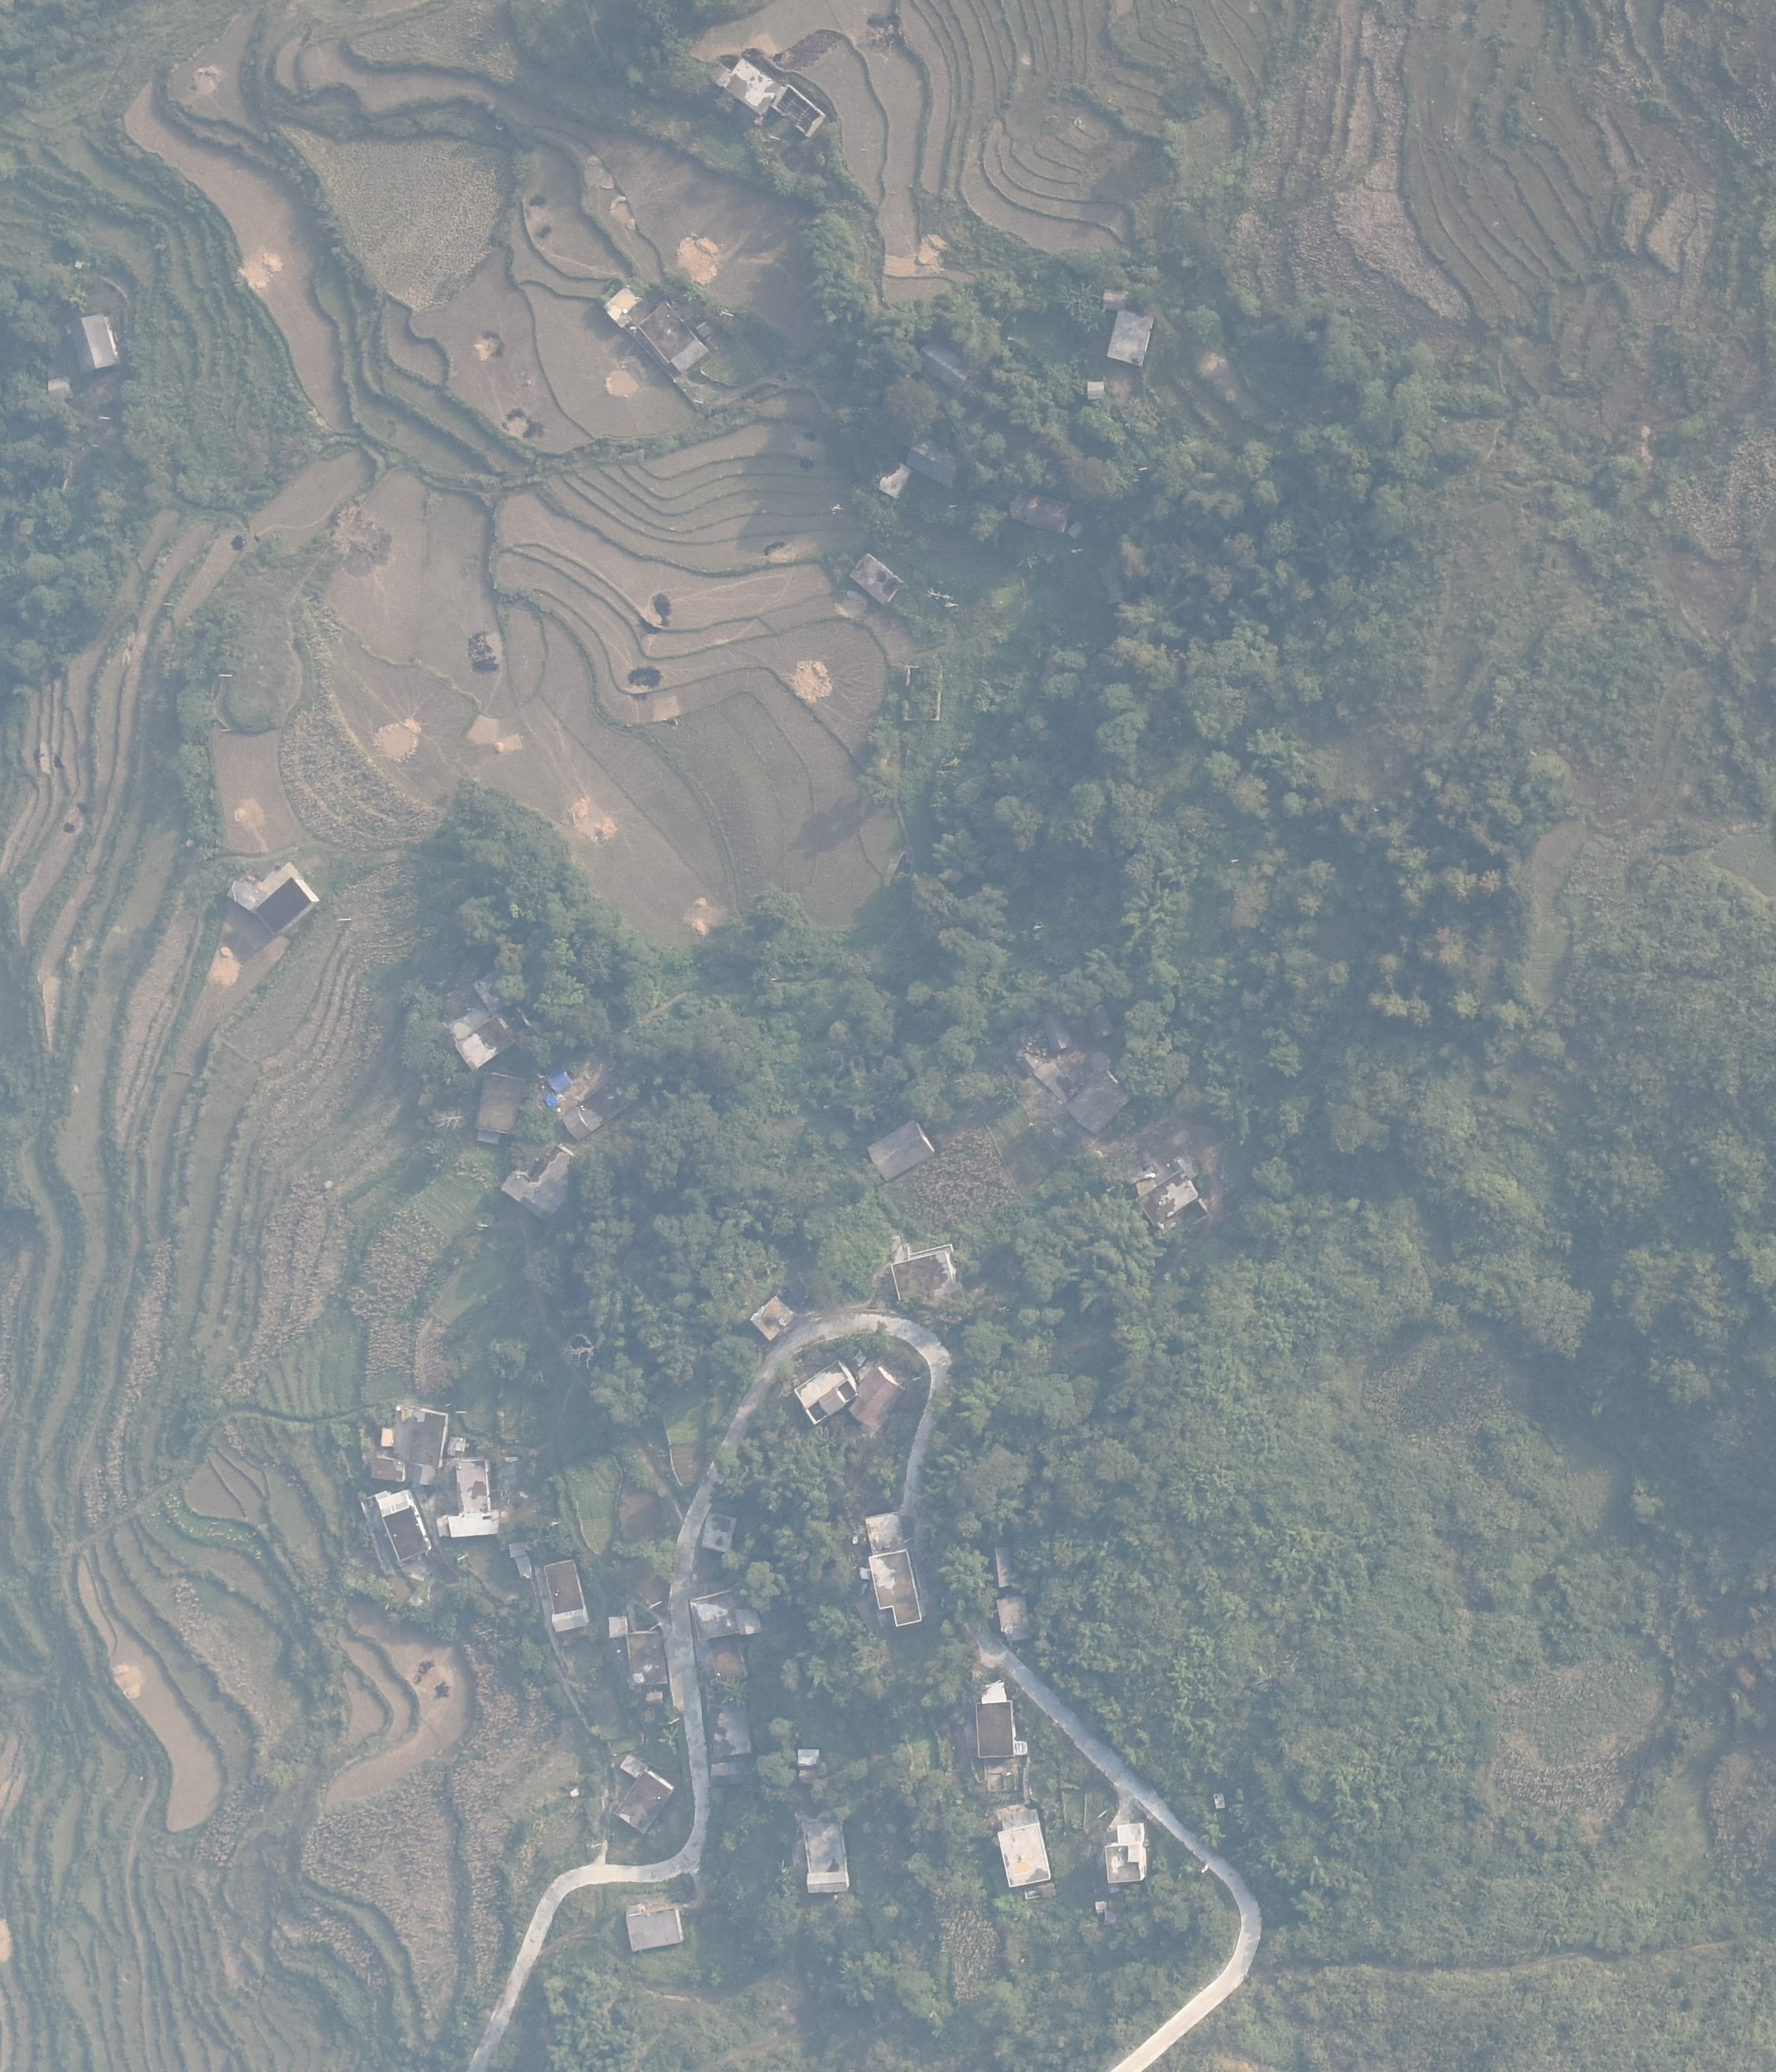building: (490, 1133, 604, 1233), (368, 1397, 449, 1485), (356, 1487, 435, 1572), (631, 298, 714, 377), (439, 1457, 514, 1540), (1121, 1166, 1219, 1230), (243, 869, 326, 939), (888, 1244, 967, 1316), (863, 1549, 932, 1632), (990, 1808, 1057, 1891), (786, 1351, 858, 1425), (1064, 1064, 1138, 1136), (56, 308, 127, 382), (613, 1769, 682, 1839), (865, 1114, 936, 1180), (846, 1365, 907, 1441), (536, 1552, 590, 1637), (909, 331, 978, 398), (967, 1690, 1024, 1765), (451, 1017, 527, 1071), (622, 1906, 699, 1959), (707, 53, 777, 111), (902, 433, 971, 492), (687, 1580, 749, 1644), (474, 1069, 523, 1147), (842, 551, 907, 610), (770, 76, 826, 139), (1003, 485, 1075, 534), (1105, 301, 1159, 366), (1101, 1817, 1151, 1885), (858, 1508, 914, 1565), (990, 1589, 1038, 1651), (624, 1628, 671, 1690), (703, 1633, 754, 1688), (744, 1291, 795, 1343), (1038, 1006, 1073, 1055), (798, 1862, 853, 1894), (1084, 1001, 1126, 1041), (696, 1515, 736, 1558), (874, 458, 909, 497), (994, 1538, 1017, 1591), (1098, 285, 1133, 315), (617, 1753, 650, 1781), (604, 1609, 629, 1640), (793, 1746, 828, 1767), (1084, 381, 1106, 403)
prefabricated-house: (541, 1064, 576, 1096)
